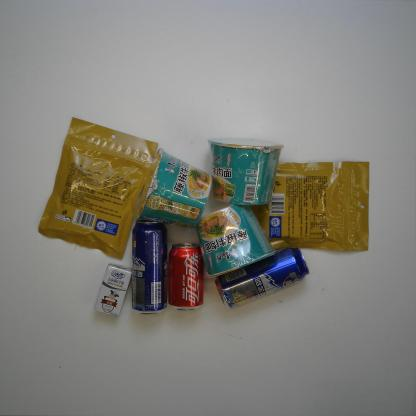Alcohol: (213, 245, 310, 310), (130, 218, 168, 318)
Dried Fruit: (36, 114, 160, 261), (252, 158, 370, 252)
Drink: (166, 242, 205, 314)
Instant Noodles: (134, 147, 214, 232), (197, 202, 278, 282), (206, 135, 285, 208)
Milk: (93, 263, 133, 317)
